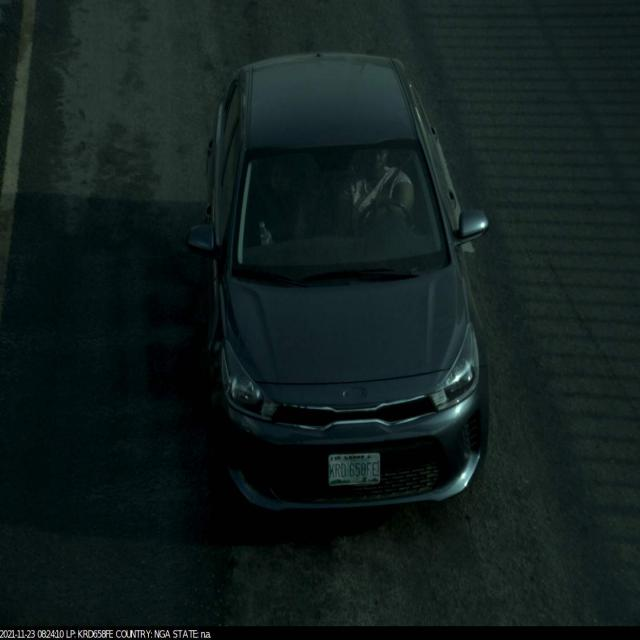windshield: (226, 127, 460, 301)
